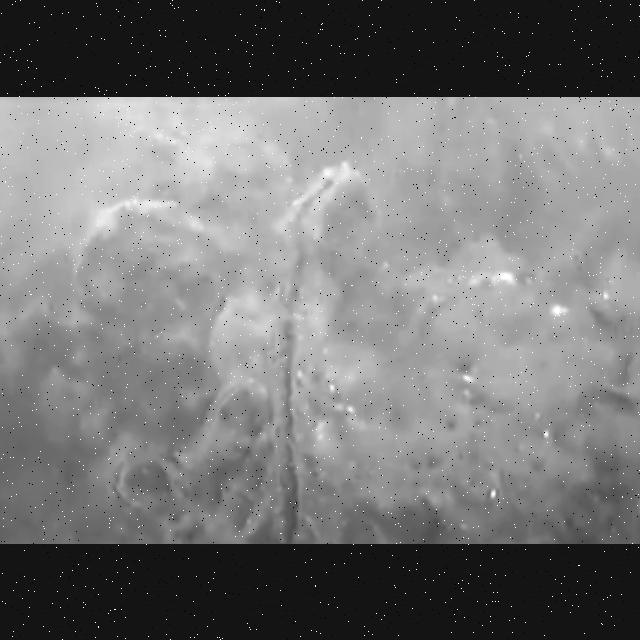Oyster-Closed: (70, 196, 234, 410)
Oyster-Open: (256, 292, 322, 544), (270, 163, 380, 305), (107, 440, 201, 518), (202, 374, 274, 464)
